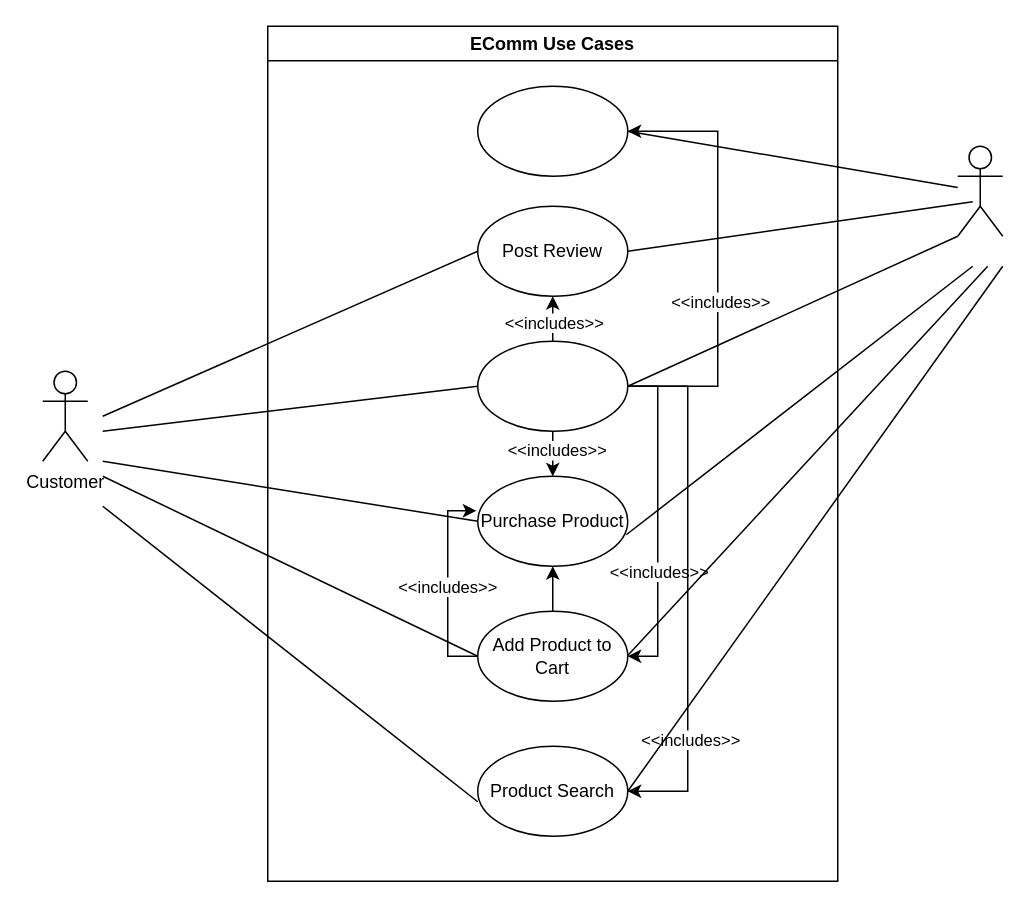
Image size: 1034x908. Some labels were removed from this diagram. Each missing label, with the centre of its shape:
Create Account: point (552, 385)
Post Product: point (552, 130)
Vendor: point (979, 190)
